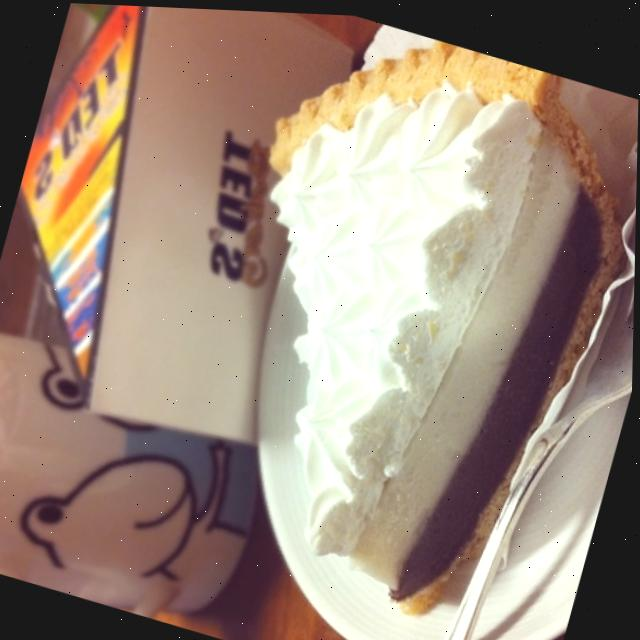蛋糕甜品: (141, 5, 640, 640)
